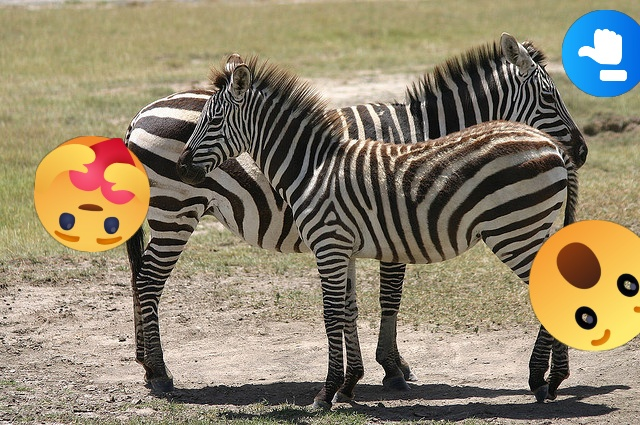care: (34, 136, 150, 252)
like: (562, 10, 640, 97)
wow: (529, 220, 640, 351)
